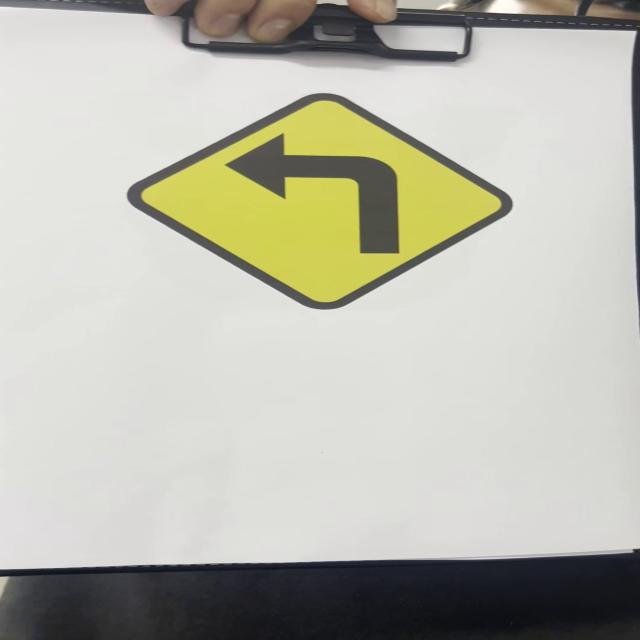left: (143, 95, 507, 311)
